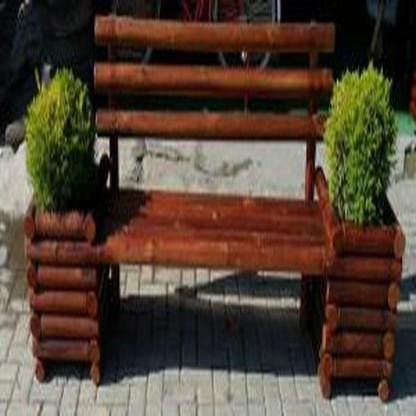obstacle: (14, 6, 401, 407)
